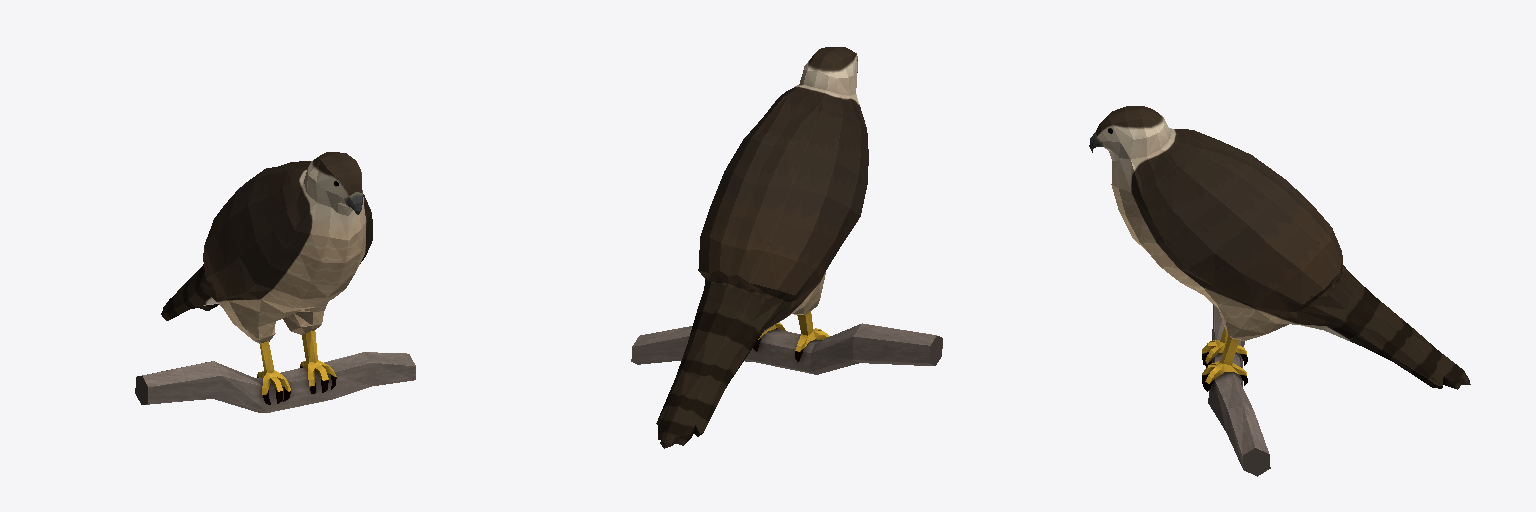
3 views of the same model, side by side, from view 1: azimuth 30°, elevation 25°; view 2: azimuth 150°, elevation 25°; view 3: azimuth 270°, elevation 25° (orthographic).
Parts seen in each view (by area): view 1: CoopersHawk_Mesh; view 2: CoopersHawk_Mesh; view 3: CoopersHawk_Mesh.
Boxes of the visible parts, box(x1,y1,x2,y2) form: CoopersHawk_Mesh: box(135, 152, 415, 412); CoopersHawk_Mesh: box(631, 47, 942, 448); CoopersHawk_Mesh: box(1089, 106, 1470, 476).
Size of the model in its own units: 3.36 by 3.44 by 3.92.
Materials: 1 (1 with a texture image).